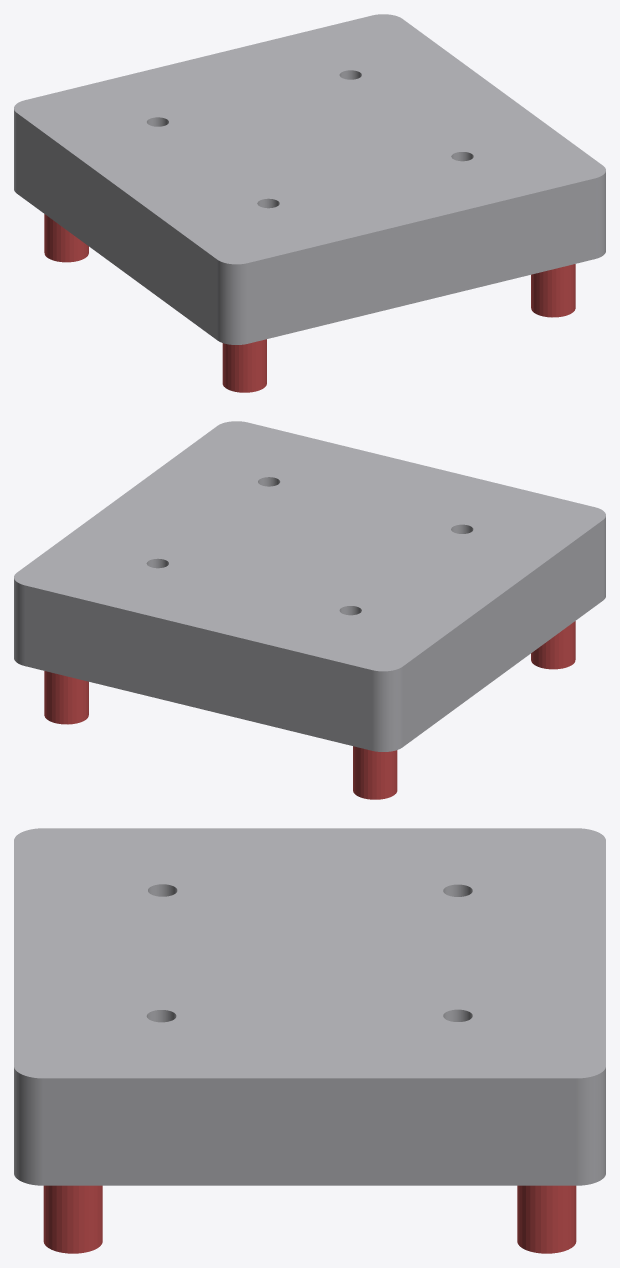
The model's file is fixture_layout.glb.
3 views of the same model, one above another, from view 1: azimuth 30°, elevation 25°; view 2: azimuth 150°, elevation 25°; view 3: azimuth 270°, elevation 25° (orthographic). The views are drawn at different scales.
Visible parts, largest first — view 1: part, clamp_4, clamp_2, clamp_3; view 2: part, clamp_3, clamp_1, clamp_4; view 3: part, clamp_1, clamp_2.
Part boxes in pixels (x1,y1,x2,y2): part: (14,14,605,344); clamp_4: (222,339,266,392); clamp_2: (531,264,575,317); clamp_3: (44,214,88,262); part: (14,421,605,751); clamp_3: (353,746,397,799); clamp_1: (44,671,88,724); clamp_4: (531,621,575,669); part: (14,828,605,1185); clamp_1: (517,1185,576,1253); clamp_2: (43,1185,102,1253).
Size of the model in its own units: 0.1 by 0.035 by 0.1.
